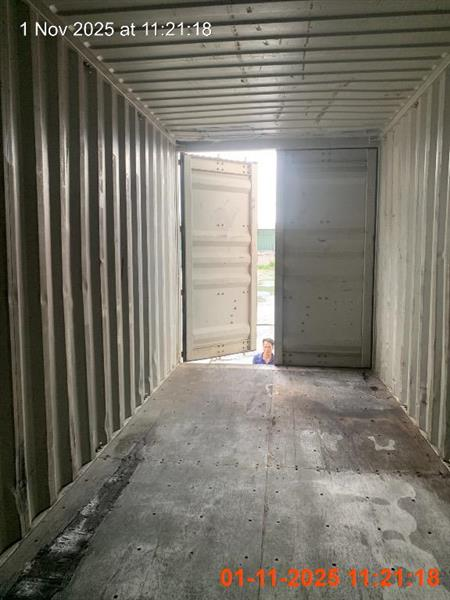broken: (252, 337, 276, 365)
